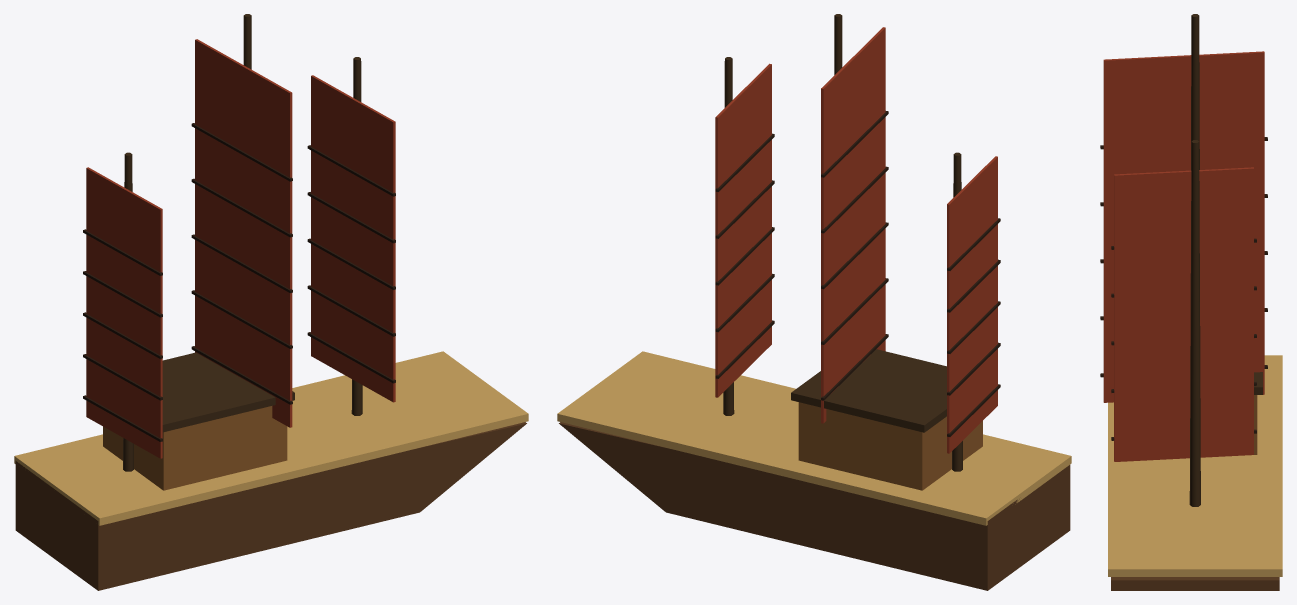
File: junk-boat.glb
3 views of the same model, side by side, from view 1: azimuth 30°, elevation 25°; view 2: azimuth 150°, elevation 25°; view 3: azimuth 270°, elevation 25° (orthographic). The views are drawn at different scales.
Parts seen in each view (by area): view 1: junk-boat; view 2: junk-boat; view 3: junk-boat.
Part boxes in pixels (left/top/right/bottom): junk-boat: left=14, top=14, right=528, bottom=590; junk-boat: left=557, top=14, right=1071, bottom=590; junk-boat: left=1100, top=14, right=1282, bottom=590.
Bounding box in the file's own units: 9 × 10 × 3.24.
